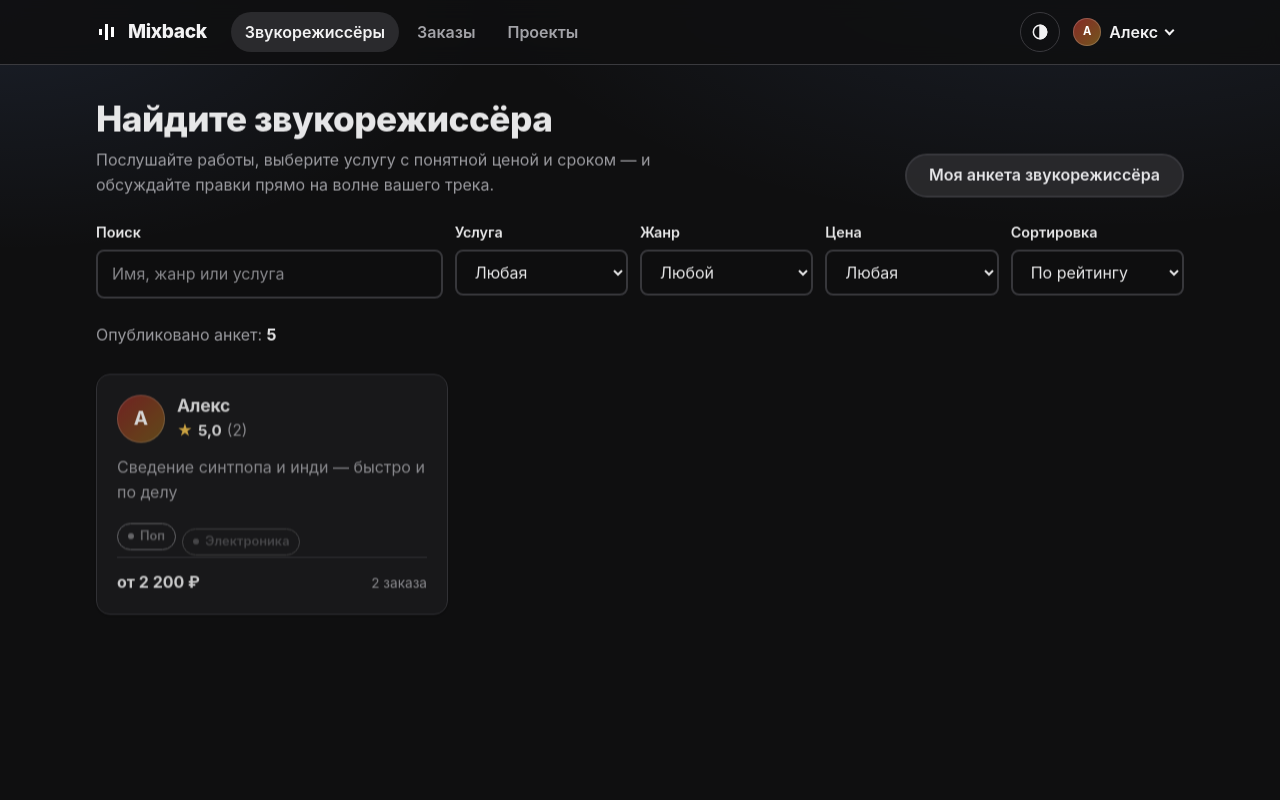
Test case: меню аккаунта › Escape закрывает меню и возвращает фокус на кнопку
Click the button "А Алекс": (1126, 32) [1068,13,1184,51]
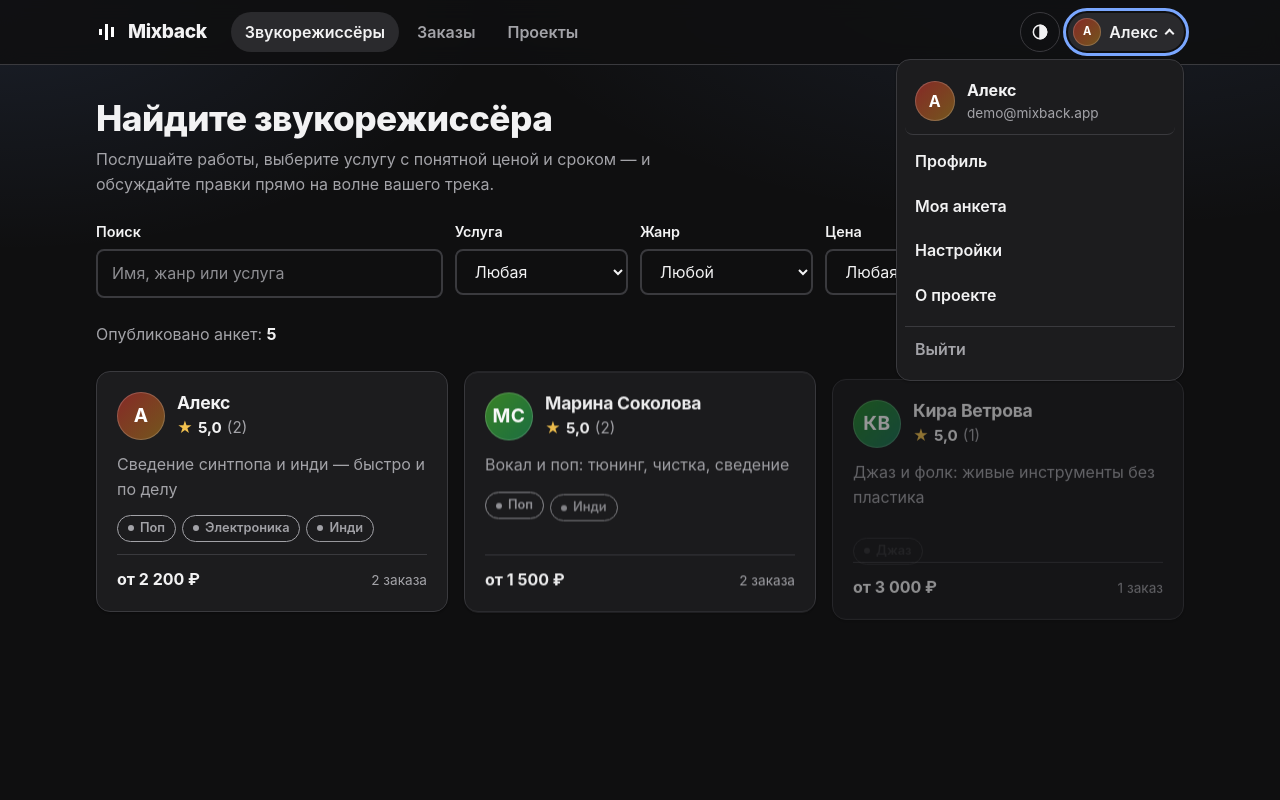
Press Escape
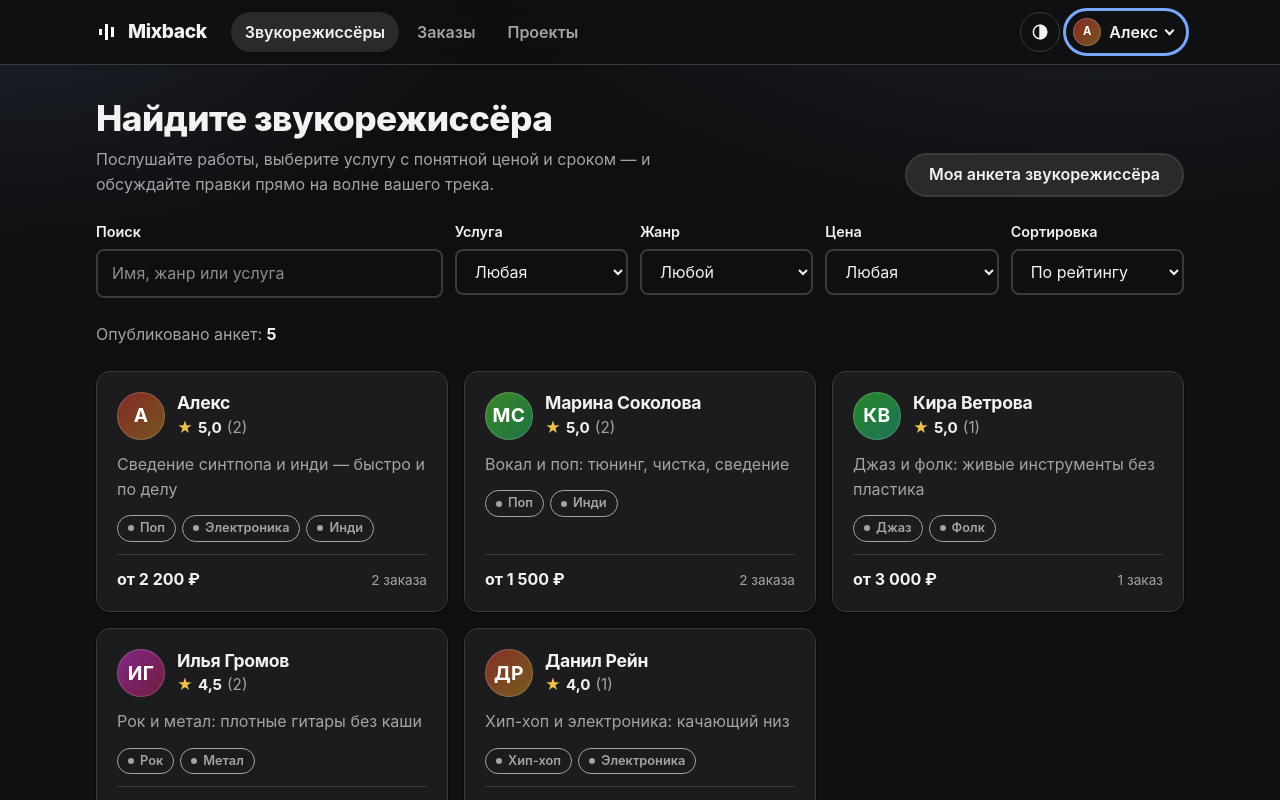
Check: the button "А Алекс" is collapsed, box [1068,13,1184,51]
